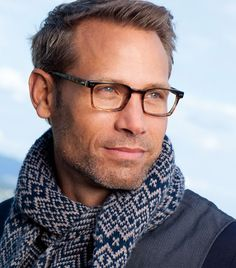glasses: (65, 73, 187, 120)
